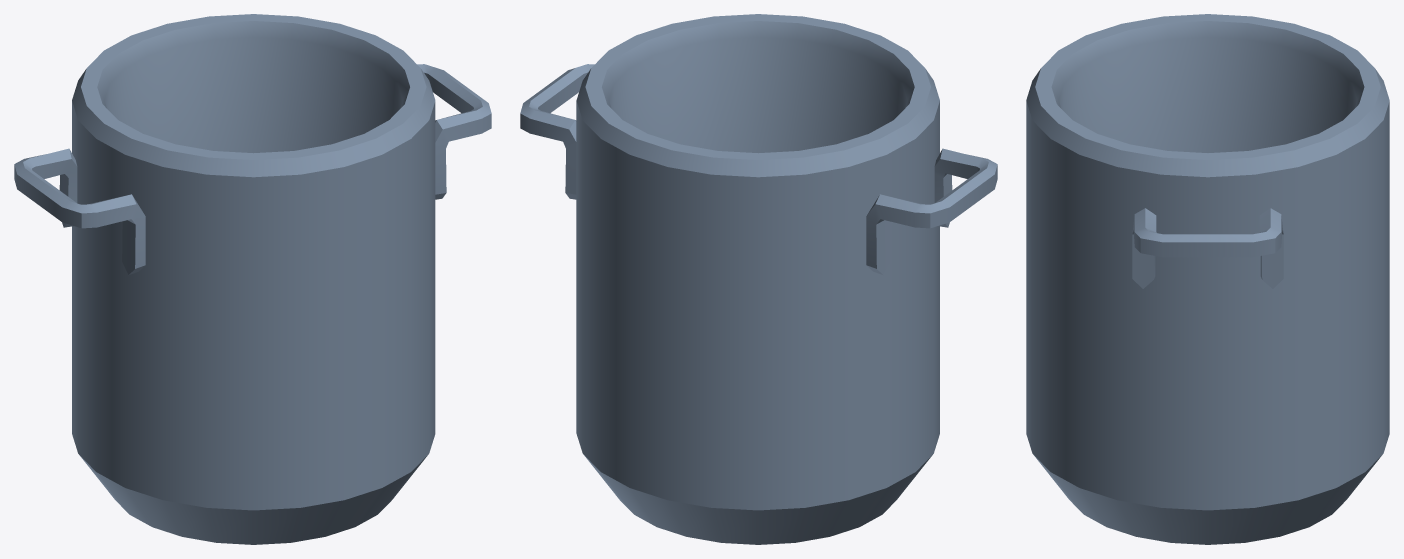
The model's file is pot_2_empty.glb.
The picture shows the model from 3 angles, left to right: view 1: azimuth 30°, elevation 25°; view 2: azimuth 150°, elevation 25°; view 3: azimuth 270°, elevation 25°; orthographic projection.
Visible parts, largest first — view 1: Environment_Pot_2_Empty; view 2: Environment_Pot_2_Empty; view 3: Environment_Pot_2_Empty.
Boxes of the visible parts, <box> form: Environment_Pot_2_Empty: <box>14,14,491,544</box>; Environment_Pot_2_Empty: <box>520,14,997,544</box>; Environment_Pot_2_Empty: <box>1026,14,1389,544</box>.
Bounding box in the file's own units: 1.4 × 1.25 × 1.04.
1 material, 1 textured.
